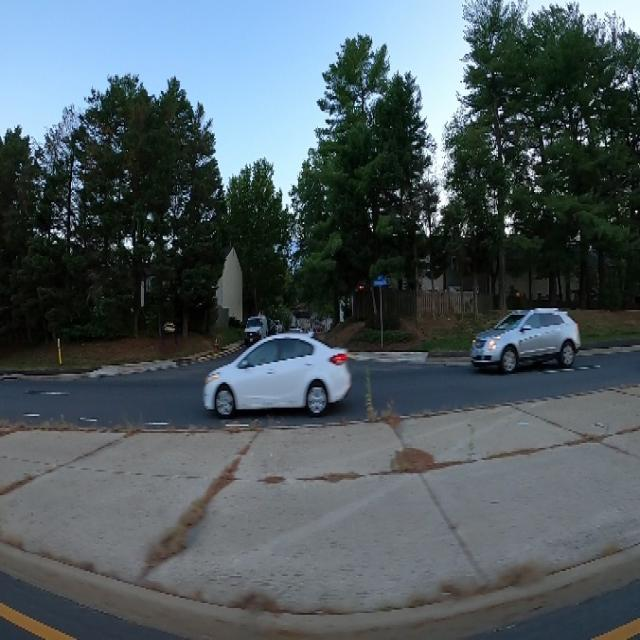car: (196, 329, 367, 426), (450, 292, 587, 373), (246, 308, 264, 340)
